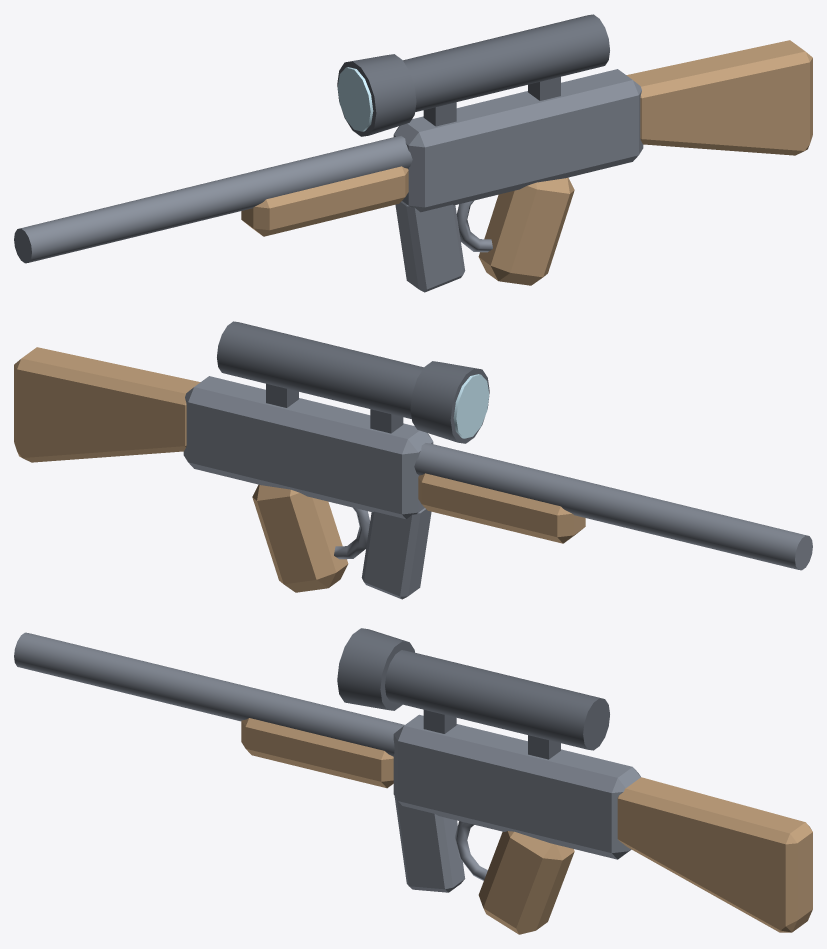
File: SniperRifle.fbx
The picture shows the model from 3 angles, top to bottom: view 1: azimuth 30°, elevation 25°; view 2: azimuth 150°, elevation 25°; view 3: azimuth 330°, elevation 25°; orthographic projection.
Visible parts, largest first — view 1: SniperRifle; view 2: SniperRifle; view 3: SniperRifle.
Part boxes in pixels (x1,y1,x2,y2): SniperRifle: (14, 14, 812, 292); SniperRifle: (14, 321, 812, 599); SniperRifle: (14, 628, 812, 934).
Bounding box in the file's own units: 1.5 × 0.4728 × 0.13.
